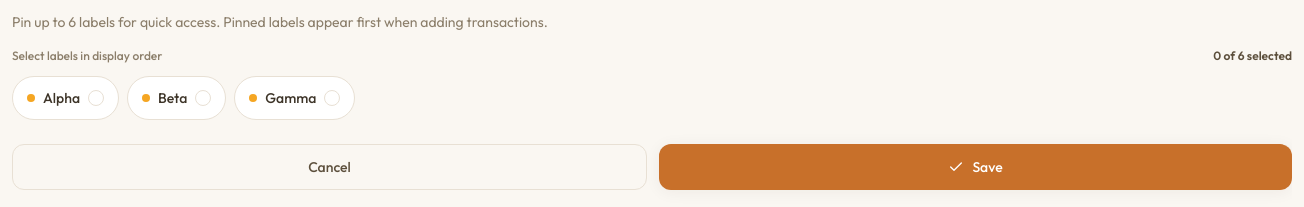
Test case: QuickLabelPicker › announces the selection position, which is otherwise only a decorative badge
Click the button "Gamma" at (295, 98), box [234,76,356,120]
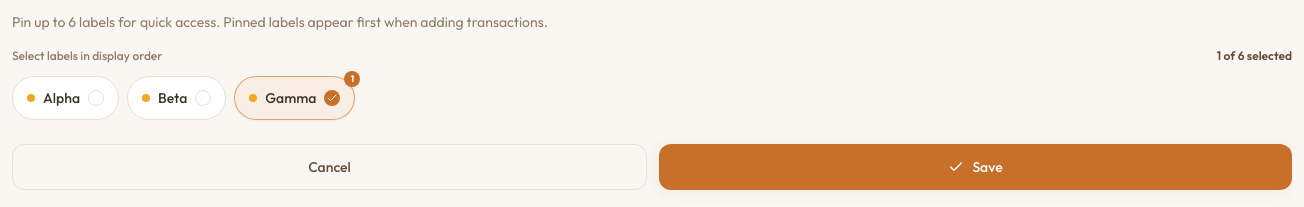
Click the button "Alpha" at (66, 98), box [12,76,119,120]
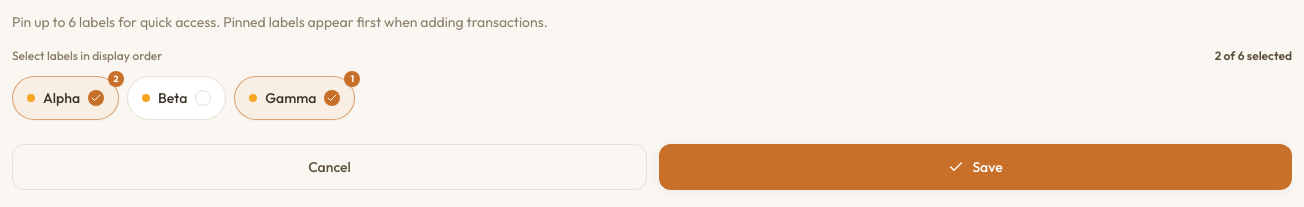
Expected: the button with aria-label "Gamma, position 1 of 2" is shown, [234,76,356,120]
Expected: the button with aria-label "Alpha, position 2 of 2" is shown, [12,76,119,120]
